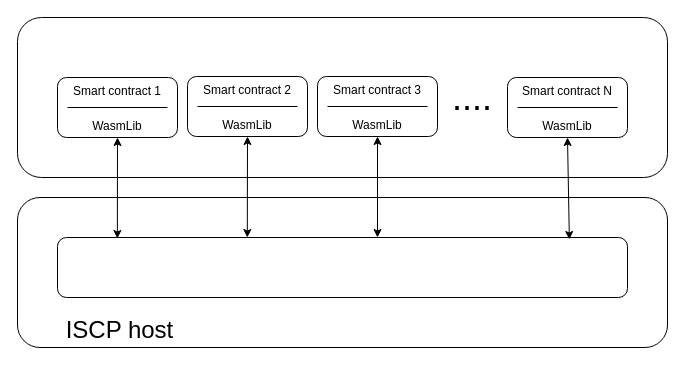
Some shapes in this 685 by 365 pixel diagram are drawn without their labels. Each missing label, with the box of its shape:
ISCP sandbox API: (56, 236, 628, 298)
Wasm VM: (16, 16, 668, 178)
